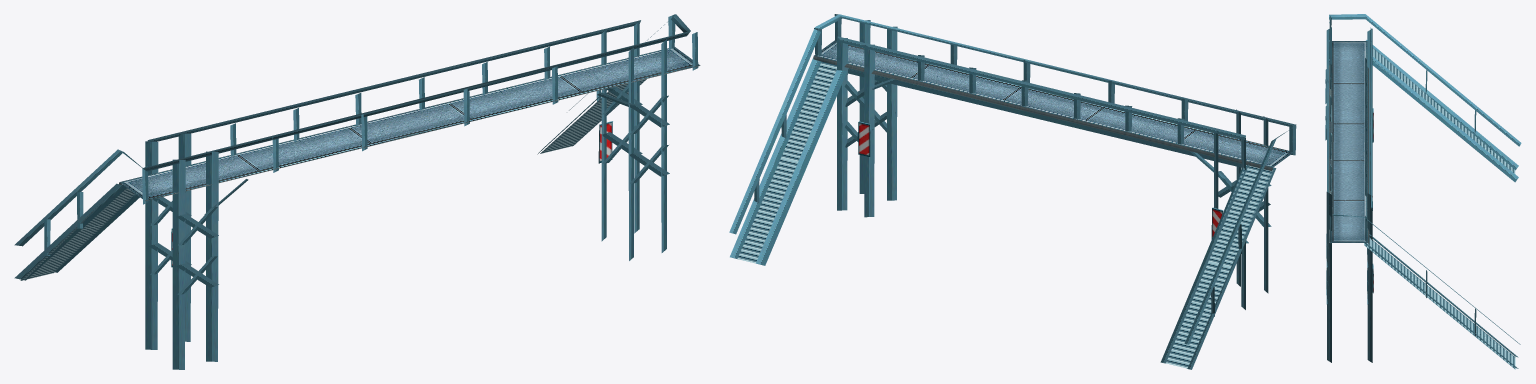
The model's file is overpass_destruct.fbx.
The picture shows the model from 3 angles, left to right: view 1: azimuth 30°, elevation 25°; view 2: azimuth 150°, elevation 25°; view 3: azimuth 270°, elevation 25°; orthographic projection. The views are drawn at different scales.
Parts seen in each view (by area): view 1: overpass_destruct; view 2: overpass_destruct; view 3: overpass_destruct.
Part boxes in pixels (x1,y1,x2,y2): overpass_destruct: [14, 14, 700, 369]; overpass_destruct: [729, 14, 1296, 369]; overpass_destruct: [1325, 14, 1521, 369].
Size of the model in its own units: 2386 by 864 by 973.
